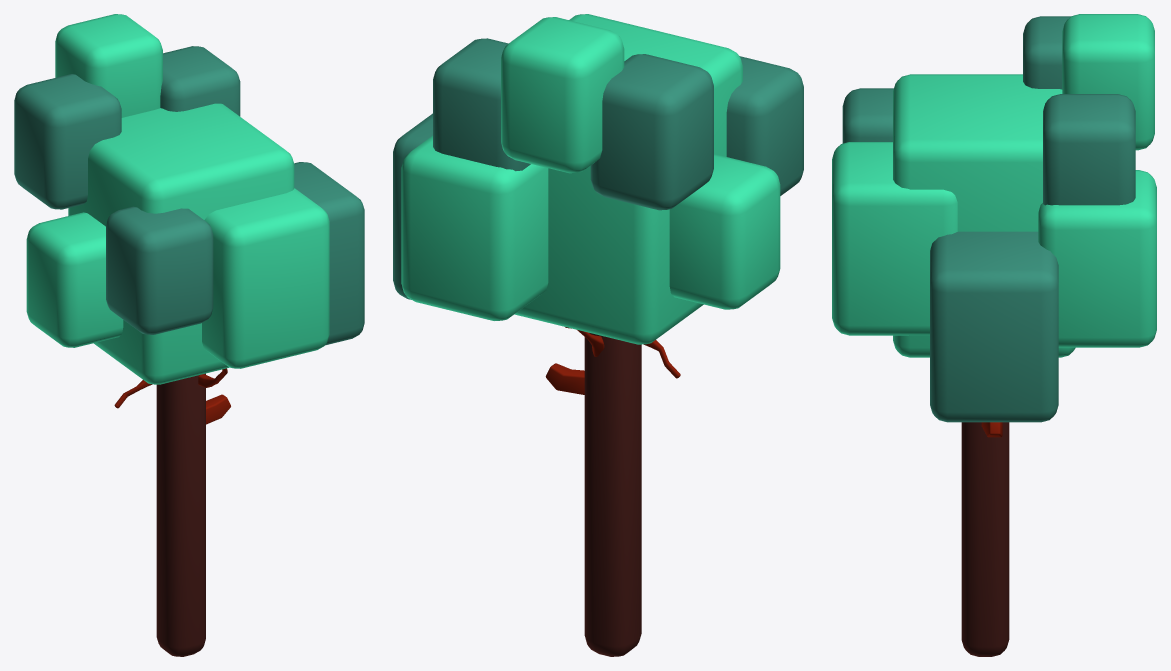
File: Arvore_quadrada.fbx
3 renders of one model, left to right at view 1: azimuth 30°, elevation 25°; view 2: azimuth 150°, elevation 25°; view 3: azimuth 270°, elevation 25°, orthographic. The views are drawn at different scales.
Parts seen in each view (by area): view 1: Arvore_quadrada, Arvore_quadrada_caule, Arvore_quadrada_galhos; view 2: Arvore_quadrada, Arvore_quadrada_caule, Arvore_quadrada_galhos; view 3: Arvore_quadrada, Arvore_quadrada_caule.
Boxes of the visible parts, x1,y1,x2,y2 form: Arvore_quadrada: (14,14,364,384); Arvore_quadrada_caule: (156,373,205,656); Arvore_quadrada_galhos: (114,368,230,424); Arvore_quadrada: (393,14,803,344); Arvore_quadrada_caule: (584,333,641,656); Arvore_quadrada_galhos: (545,327,680,394); Arvore_quadrada: (832,14,1156,422); Arvore_quadrada_caule: (961,422,1009,656).
Bounding box in the file's own units: 766 × 1432 × 683.
